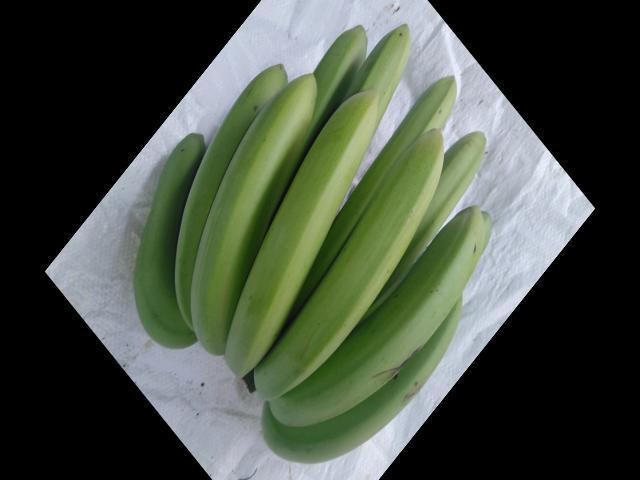freshunripe: (207, 82, 385, 396), (296, 205, 489, 423), (184, 56, 323, 326), (142, 120, 210, 352), (363, 136, 440, 258), (398, 55, 473, 138)
